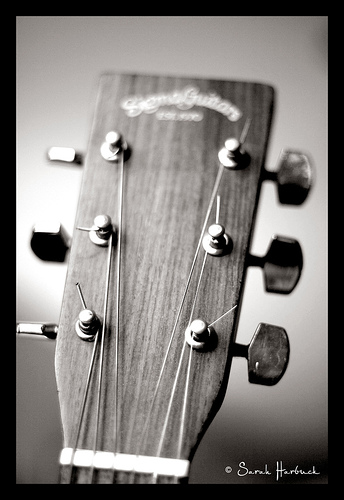guitar: (22, 68, 318, 484)
